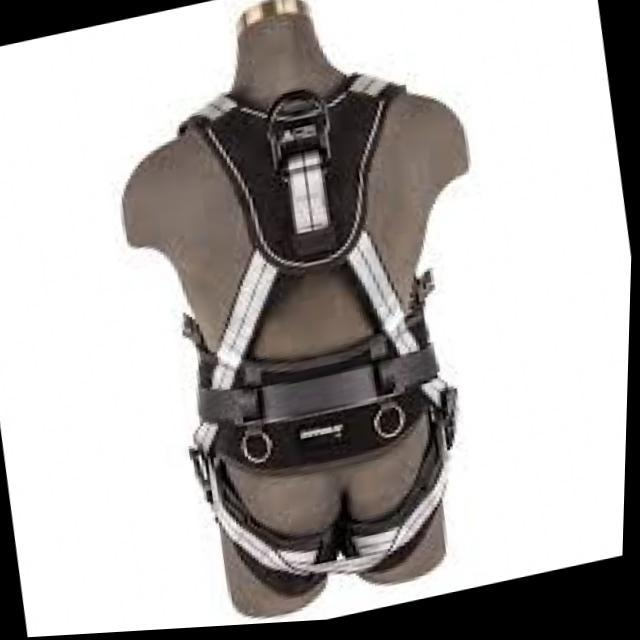belt: (138, 57, 494, 618)
